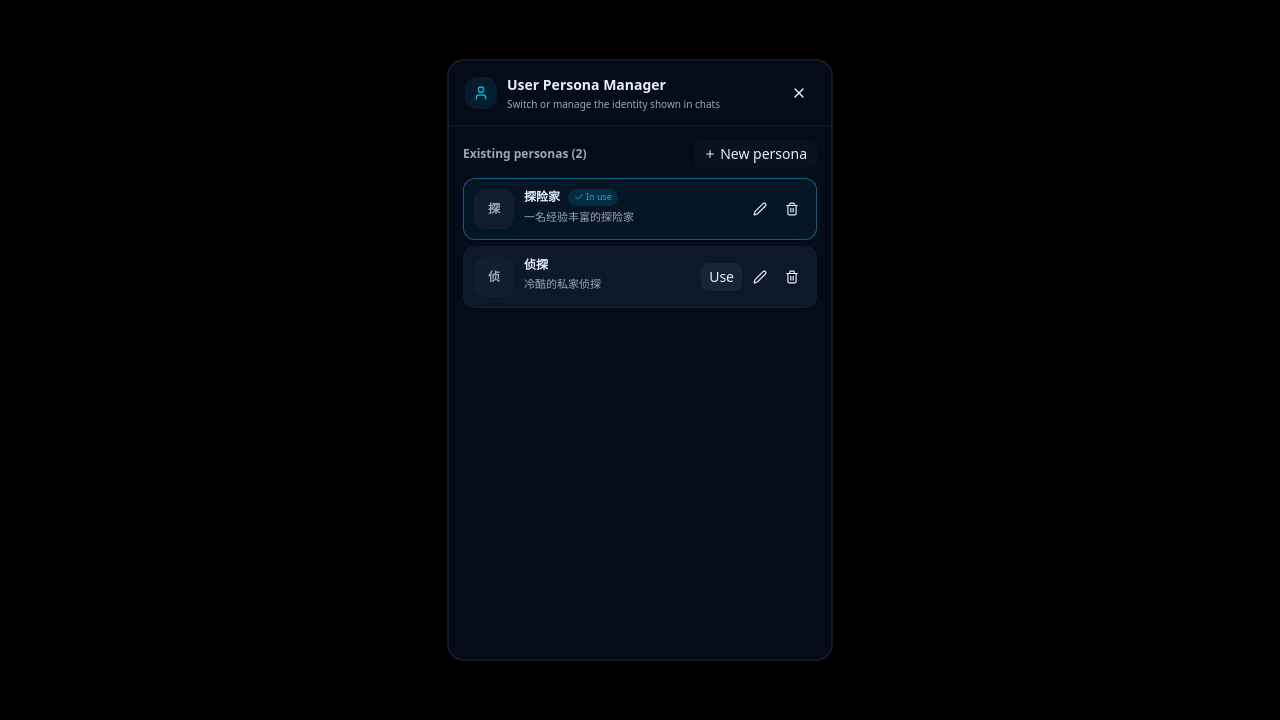
Test: UserPersonaModal › can open create persona form and fill name and description
This screenshot has width=1280, height=720.
Click the button "New persona": coordinates (756, 154) x1=694 y1=140 x2=817 y2=168
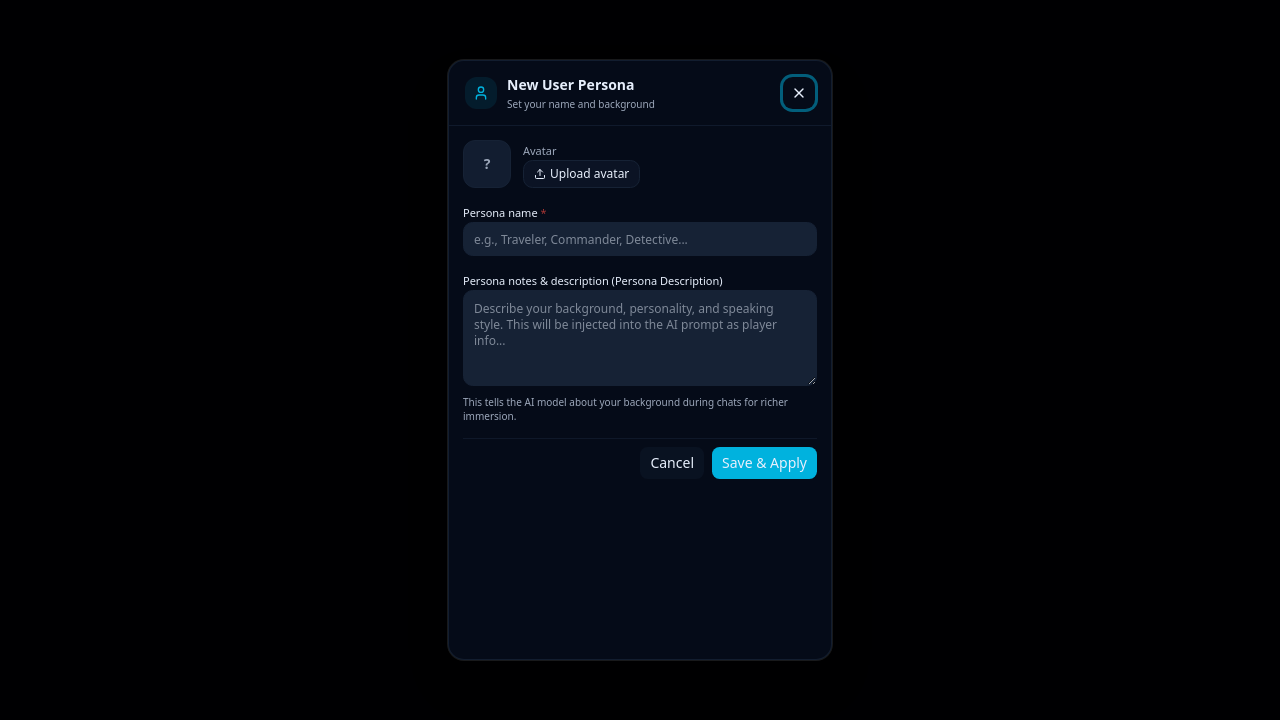
Expected: the heading "New User Persona" is shown, x1=507 y1=75 x2=655 y2=95
Expected: the field with placeholder "e.g., Traveler, Commander, Detective..." is shown, x1=463 y1=222 x2=817 y2=256
Expected: the text box with placeholder "Describe your background, personality, and speaking style" is shown, x1=463 y1=290 x2=817 y2=386
